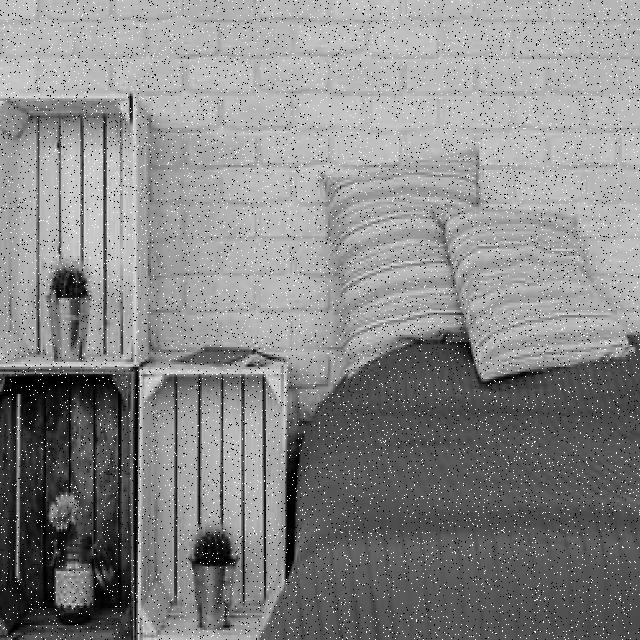bed: (269, 133, 640, 640)
